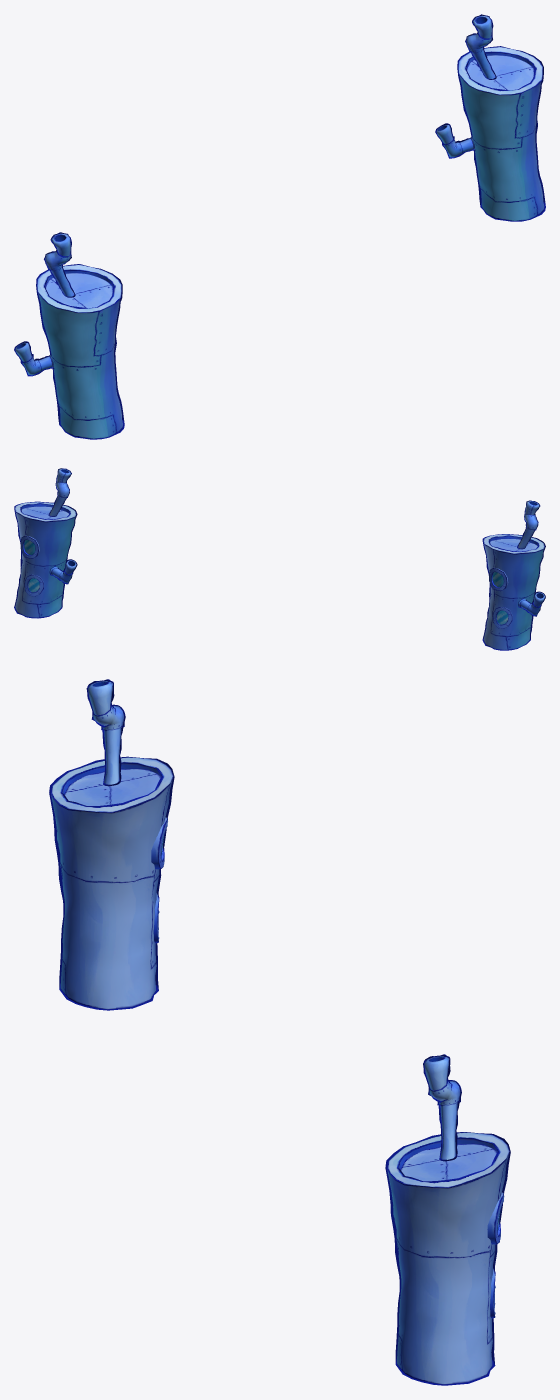
3 renders of one model, top to bottom at view 1: azimuth 30°, elevation 25°; view 2: azimuth 150°, elevation 25°; view 3: azimuth 270°, elevation 25°, orthographic. The views are drawn at different scales.
Visible parts, largest first — view 1: Object_5; view 2: Object_5; view 3: Object_5.
Boxes of the visible parts, x1=… form: Object_5: x1=14, y1=14, x2=545, y2=439; Object_5: x1=14, y1=468, x2=545, y2=650; Object_5: x1=49, y1=679, x2=510, y2=1385.
Size of the model in its own units: 141 by 42.89 by 62.57.
Materials: 1 (1 with a texture image).
